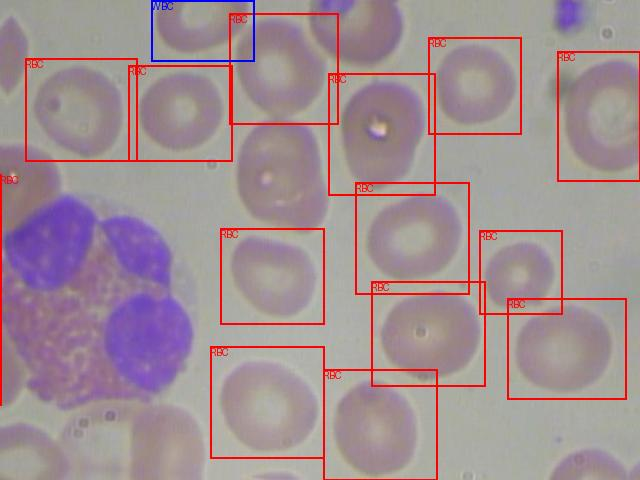RBC: (328, 73, 435, 195), (355, 182, 469, 294), (210, 346, 324, 458), (323, 369, 437, 480), (229, 13, 338, 124), (507, 298, 626, 399), (371, 281, 485, 386), (25, 58, 137, 161), (557, 51, 640, 181), (220, 228, 324, 324), (128, 65, 232, 161), (428, 37, 521, 134), (479, 230, 562, 314), (0, 174, 1, 405)
WBC: (151, 0, 254, 61)
